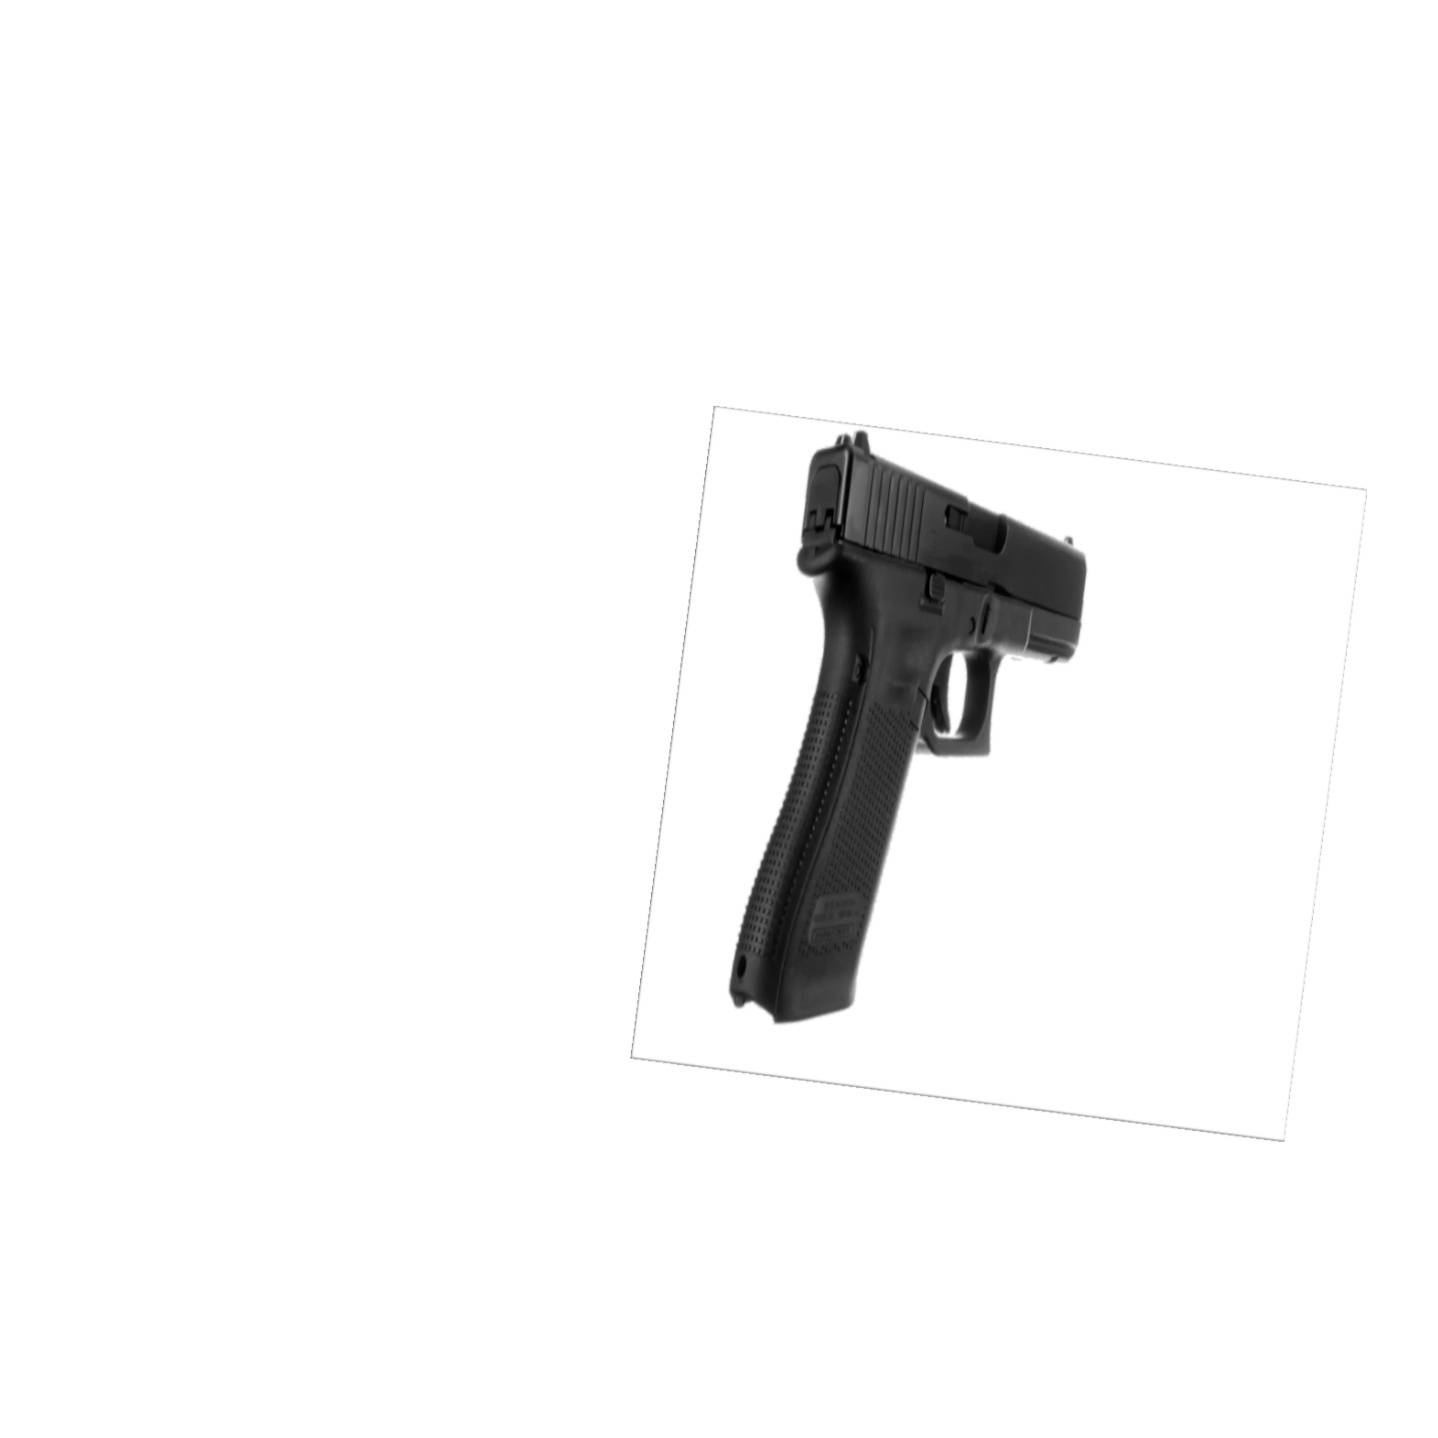gun: (723, 425, 1093, 1025)
